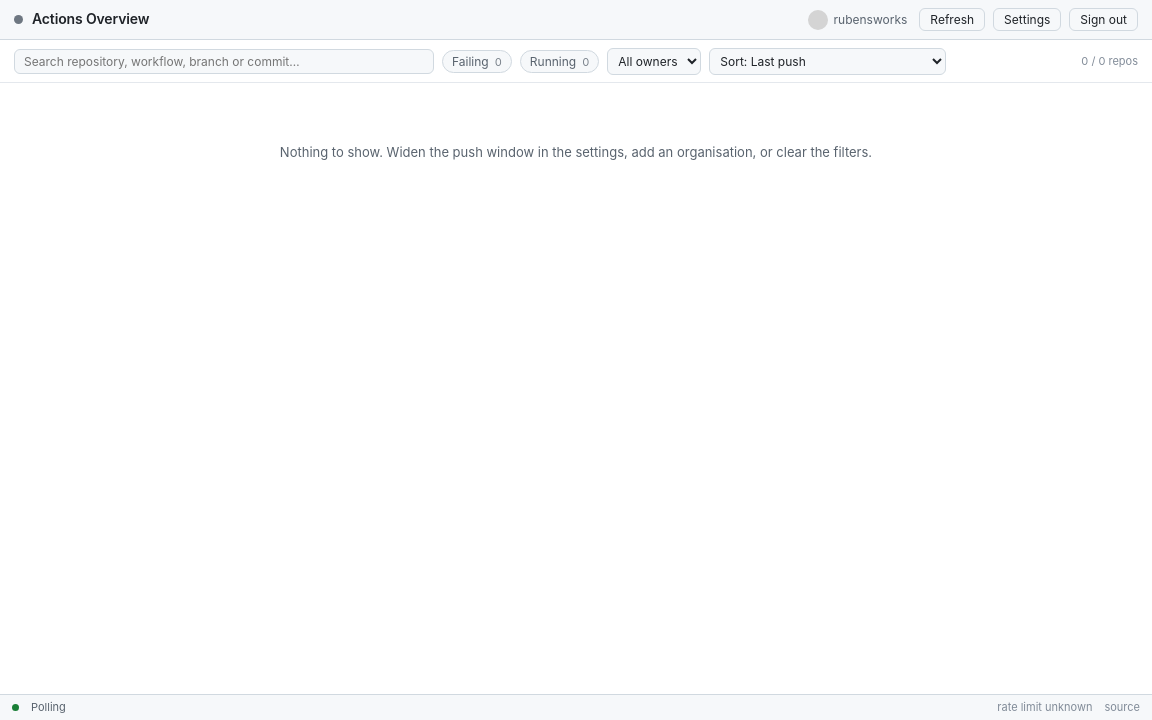
Test: Dashboard › settings panel › toggles open and shut
The image size is (1152, 720).
Click the button "Settings". click: click(1027, 20)
box: x1=993 y1=8 x2=1061 y2=31
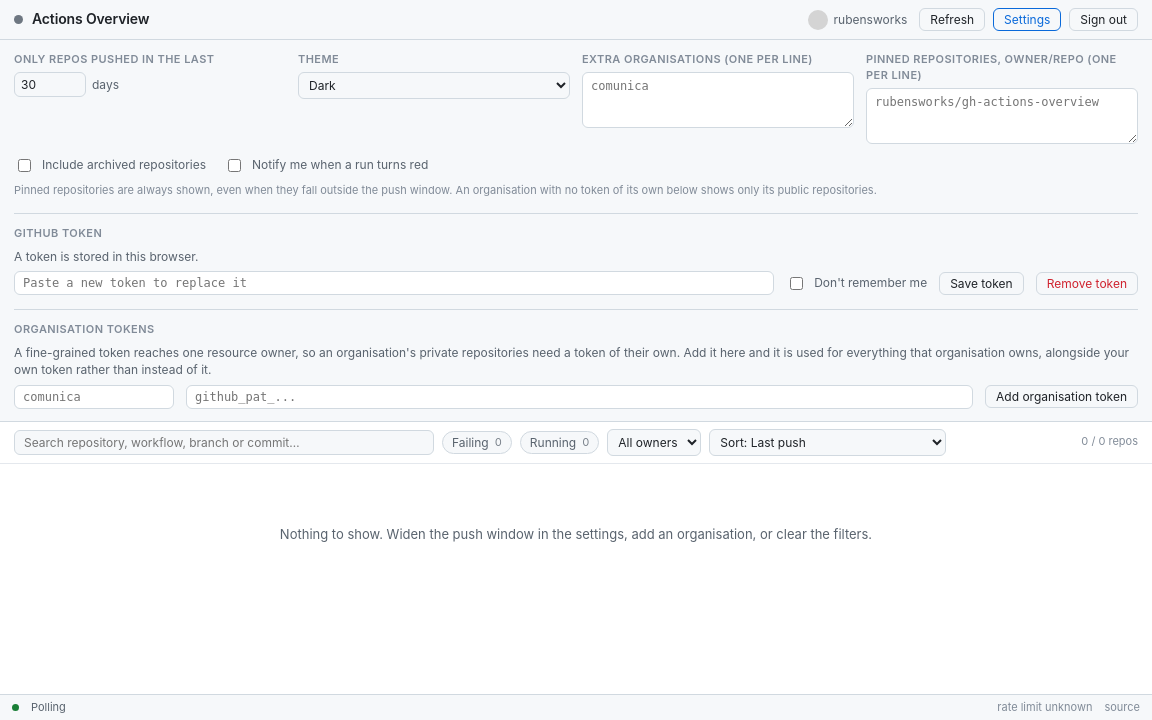
expect the text "Include archived repositories" is shown: met, box x1=42 y1=156 x2=206 y2=173
Click the button "Settings". click: click(1027, 20)
box: x1=993 y1=8 x2=1061 y2=31
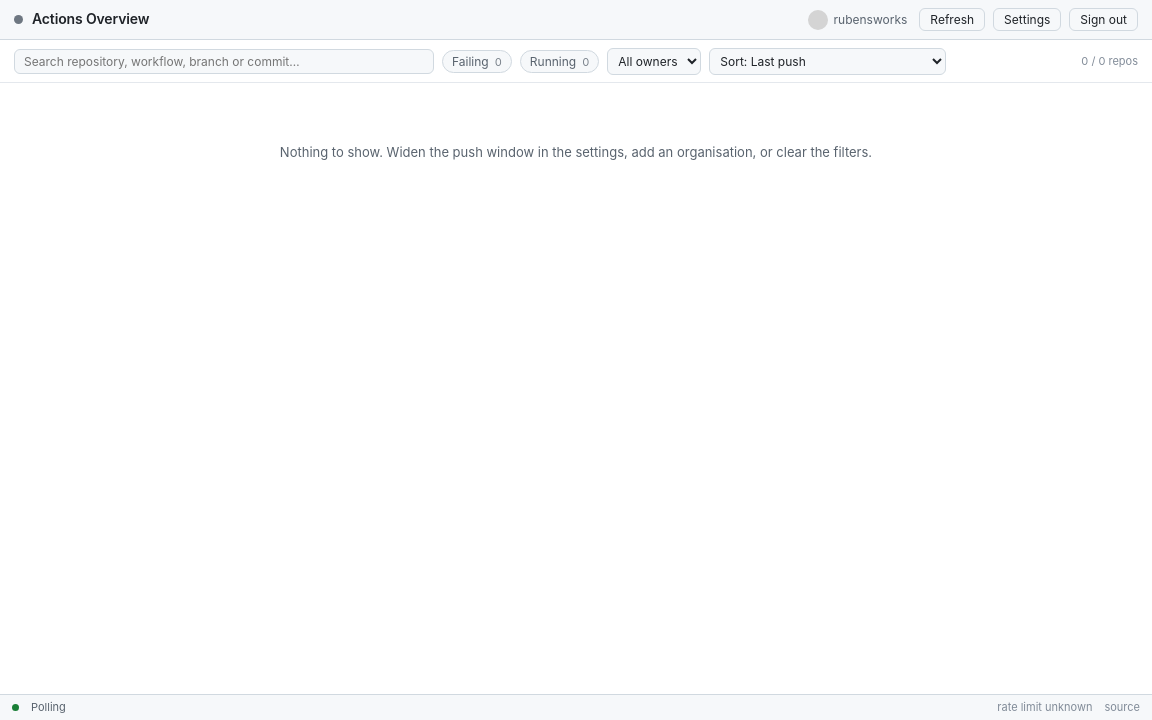
expect the text "Include archived repositories" is gone: met
